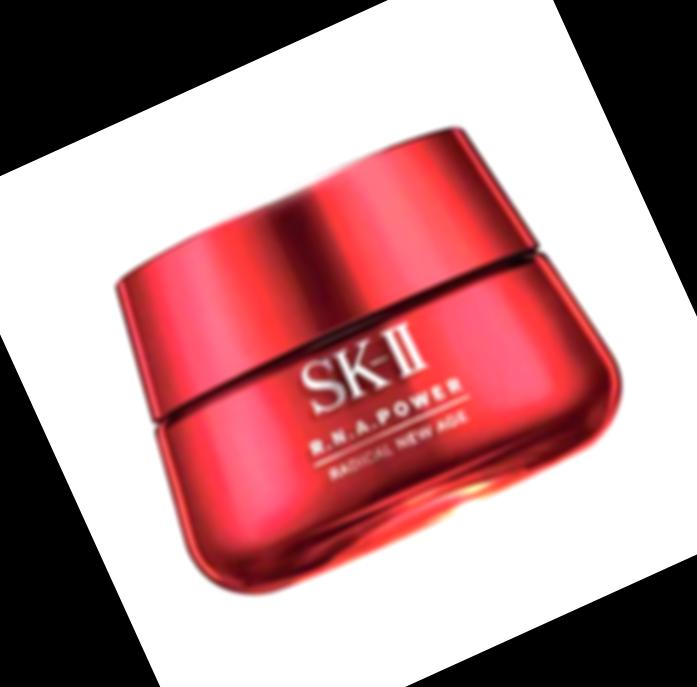cosmetic: (82, 103, 629, 604)
